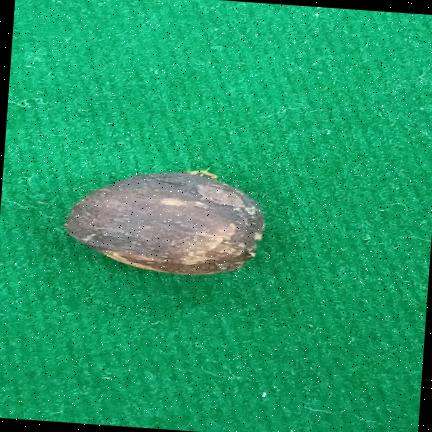full-black: (64, 172, 264, 275)
